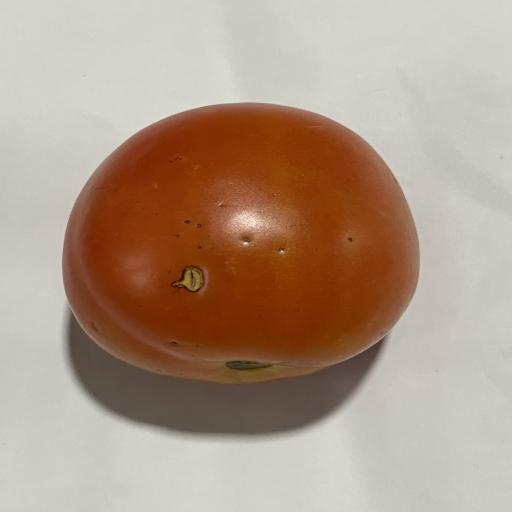ripe: (64, 103, 419, 383)
